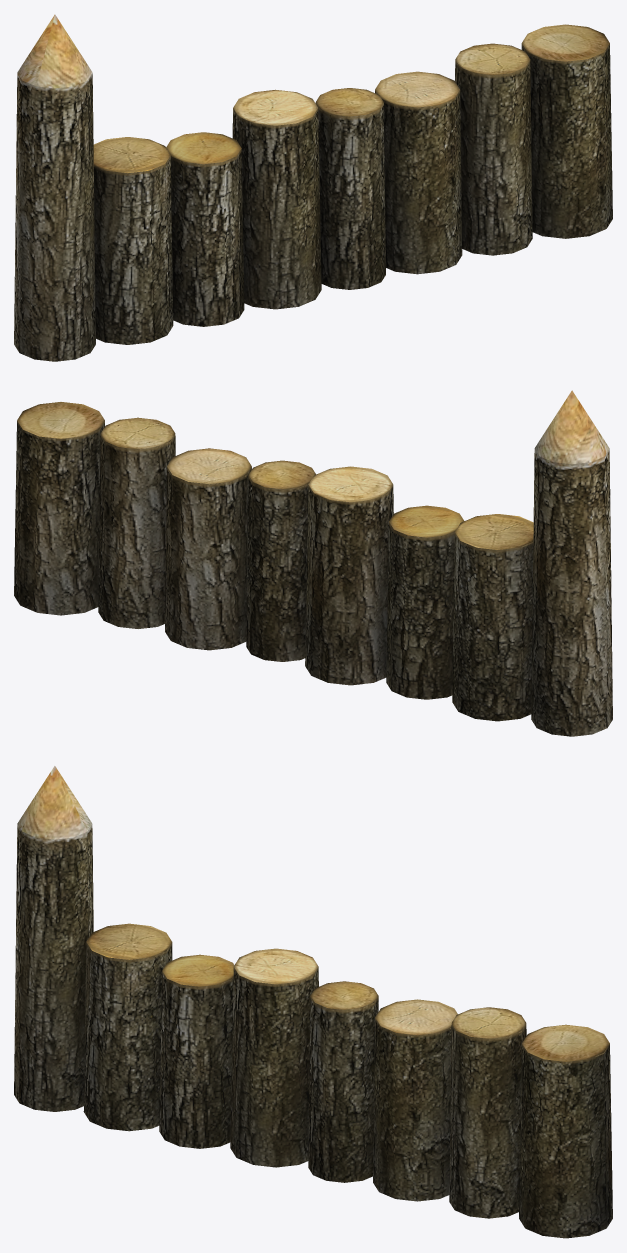
Rendered from Wooden_Wall_Fence_01_hi_right.FBX.
3 views of the same model, one above another, from view 1: azimuth 30°, elevation 25°; view 2: azimuth 150°, elevation 25°; view 3: azimuth 330°, elevation 25° (orthographic).
Parts seen in each view (by area): view 1: Wooden_Wall_Fence_01_hi_right; view 2: Wooden_Wall_Fence_01_hi_right; view 3: Wooden_Wall_Fence_01_hi_right.
Part boxes in pixels (x1,y1,x2,y2): Wooden_Wall_Fence_01_hi_right: [14, 14, 612, 361]; Wooden_Wall_Fence_01_hi_right: [14, 390, 612, 736]; Wooden_Wall_Fence_01_hi_right: [14, 766, 612, 1238].
Bounding box in the file's own units: 22.15 × 11.89 × 3.08.
Materials: 1 (1 with a texture image).
